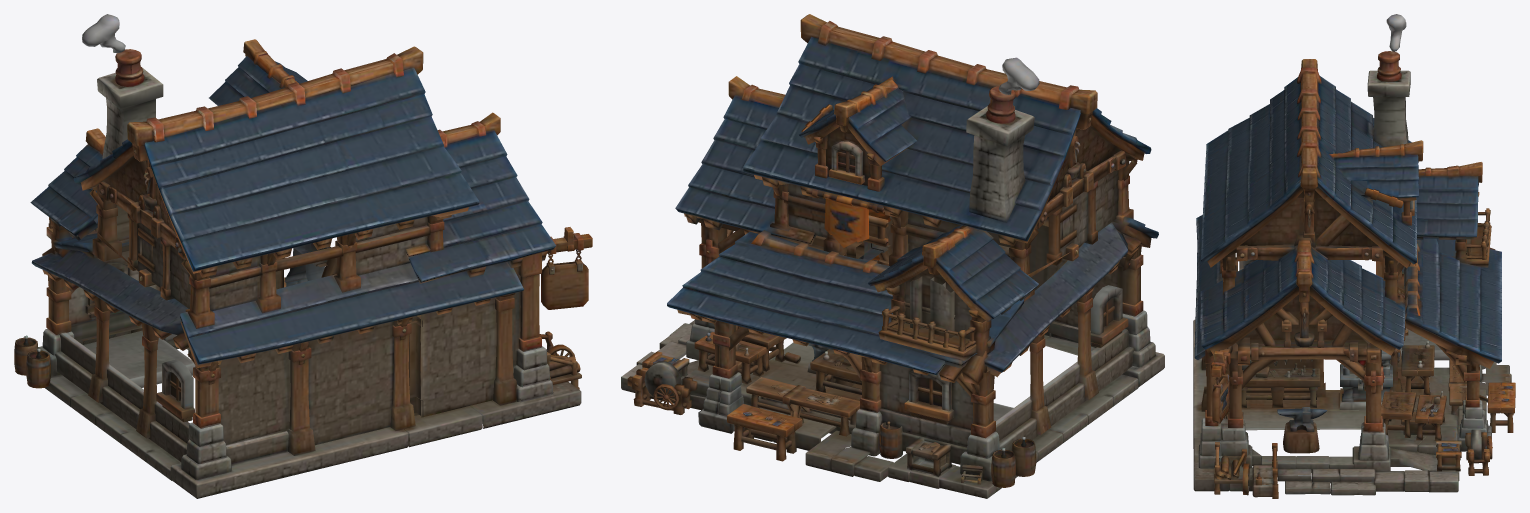
Rendered from jt_cabin_b.glb.
3 views of the same model, side by side, from view 1: azimuth 30°, elevation 25°; view 2: azimuth 150°, elevation 25°; view 3: azimuth 270°, elevation 25° (orthographic). The views are drawn at different scales.
Visible parts, largest first — view 1: tripo_node_9cc5c08d; view 2: tripo_node_9cc5c08d; view 3: tripo_node_9cc5c08d.
Part boxes in pixels (x1=…): tripo_node_9cc5c08d: x1=14, y1=14, x2=592, y2=498; tripo_node_9cc5c08d: x1=621, y1=14, x2=1164, y2=498; tripo_node_9cc5c08d: x1=1193, y1=14, x2=1515, y2=498.
Bounding box in the file's own units: 0.9995 × 0.8979 × 0.769.
1 material, 1 textured.
